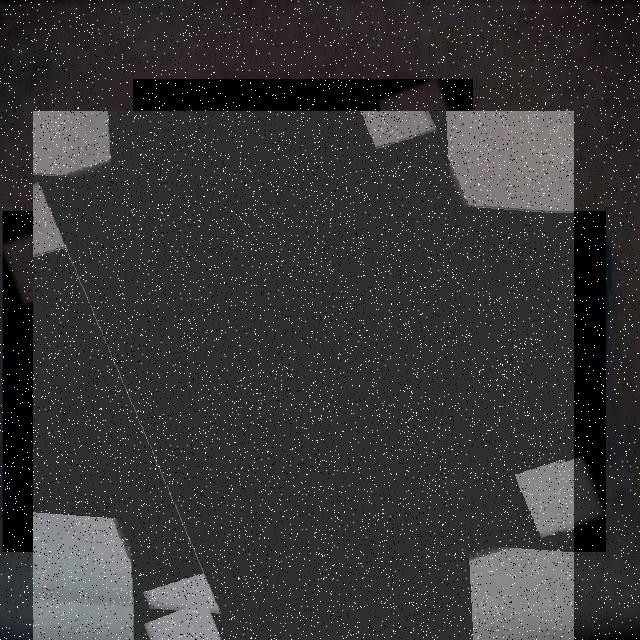dua puluh ribu rupiah: (33, 111, 574, 640)
